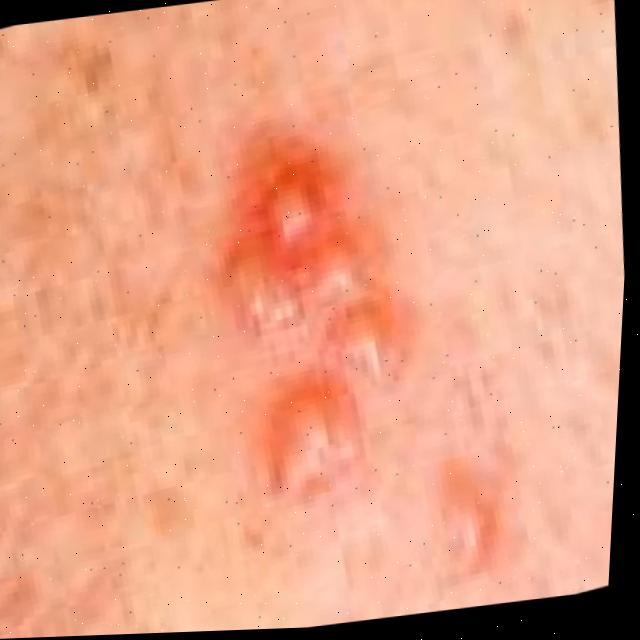Shingles: (209, 133, 405, 483)
